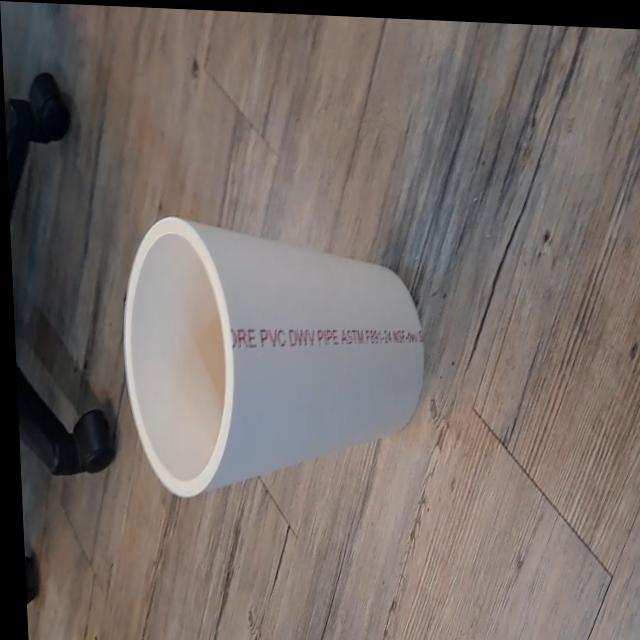CORAL: (112, 155, 452, 528)
